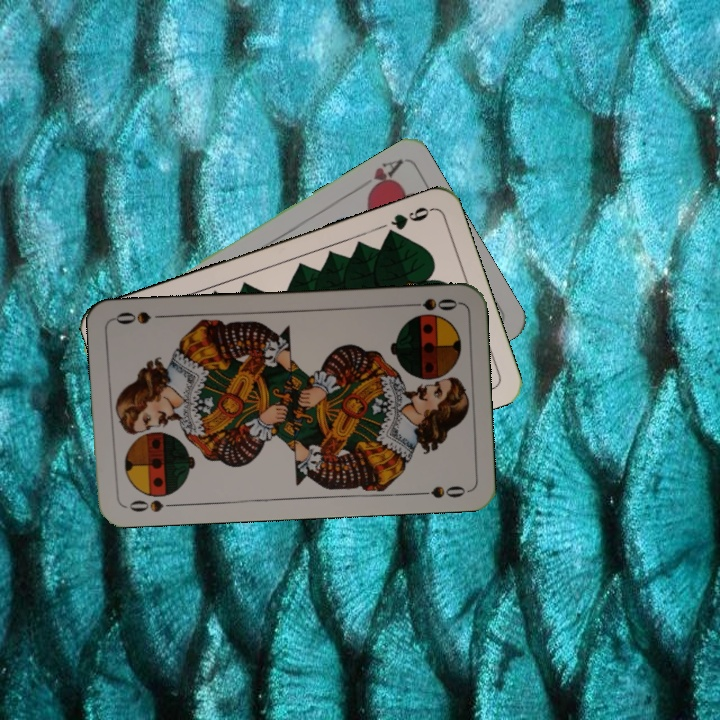G9: (381, 202, 435, 240)
HA: (352, 155, 405, 200)
SO: (401, 294, 460, 313), (120, 496, 180, 514)
